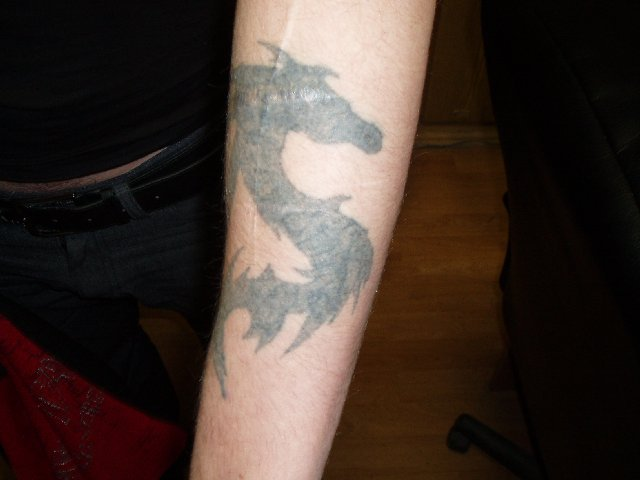tatu6_drakon: (207, 33, 398, 403)
